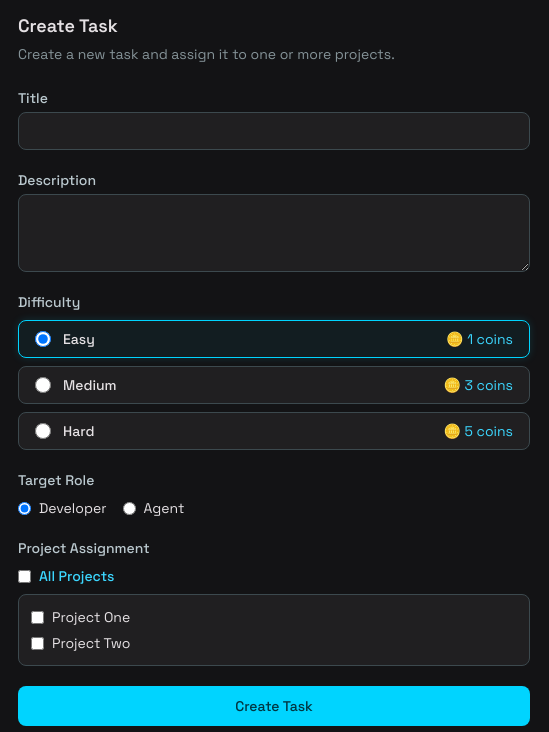
Test case: AdminTaskForm › successful submission creates task
The width and height of the screenshot is (549, 732).
Expected: the text "Project One" is shown, [31,608,130,626]
# Fill in form fields
Type "New Task Title" into the field labelled "Title" at (274, 131), box [18,112,530,150]
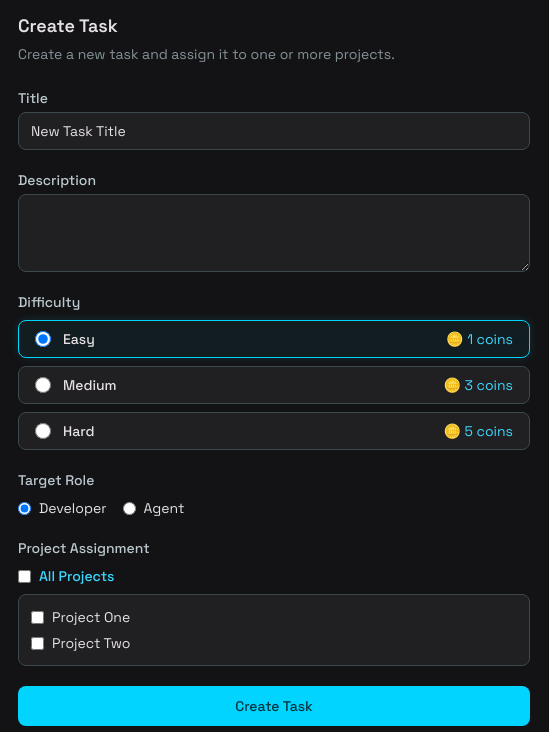
Type "Task description content" into the text box labelled "Description" at (274, 233), box [18,194,530,272]
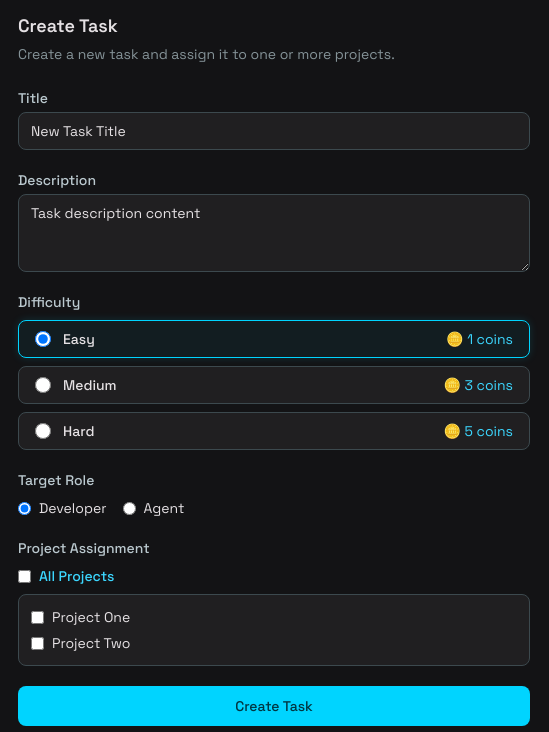
# Select a project
Click the checkbox labelled "Project One" at (38, 617), box [31,610,44,624]
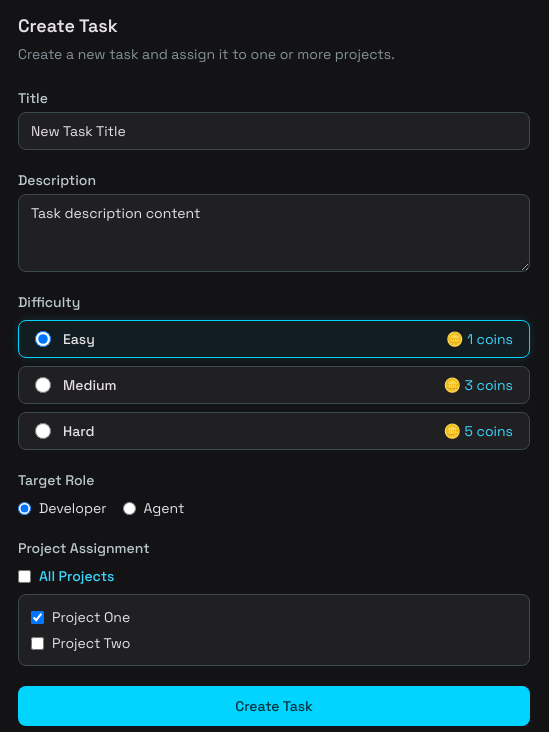
# Submit the form
Click the button "Create Task" at (274, 706), box [18,686,530,726]
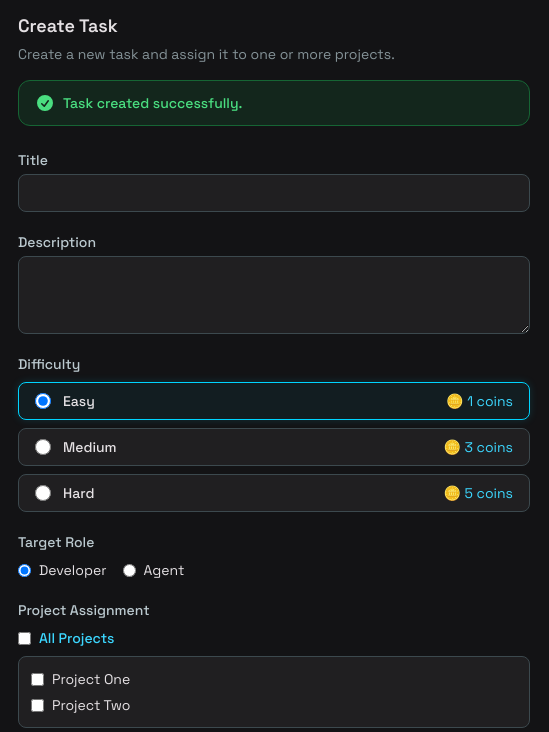
Expected: the text "Task created successfully." is shown, [63,93,242,113]
